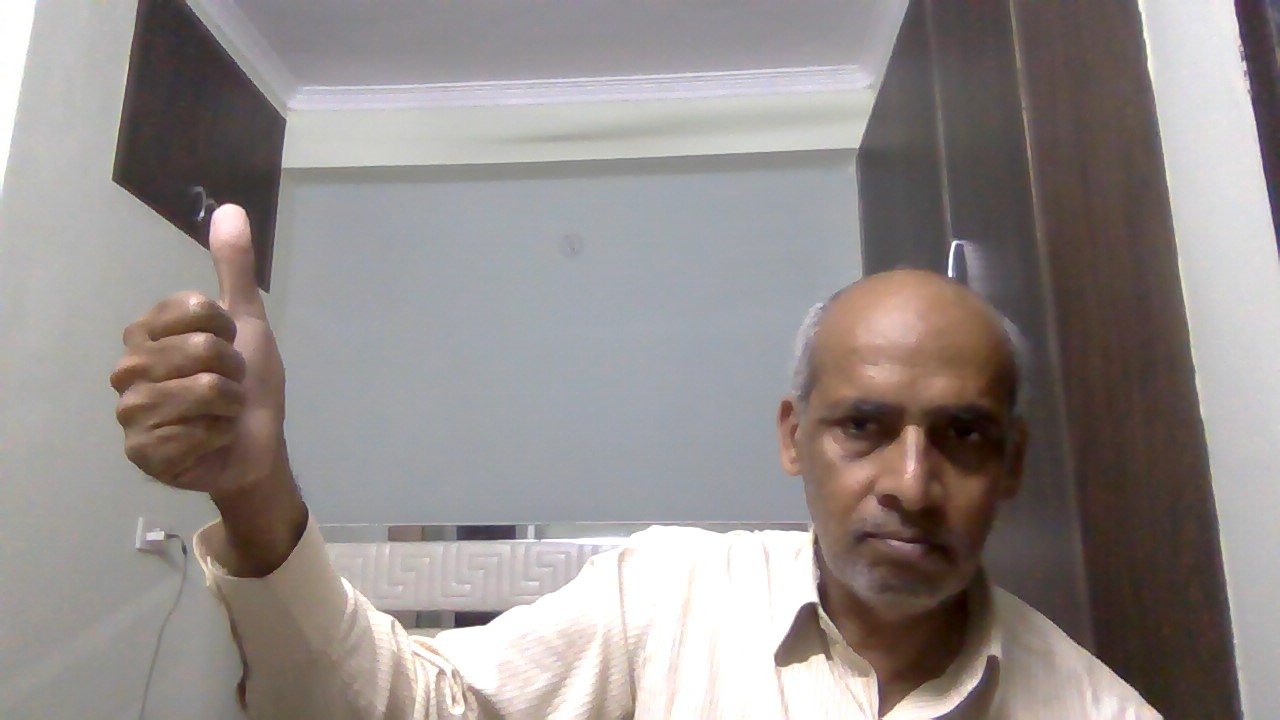Save: (104, 193, 311, 512)
